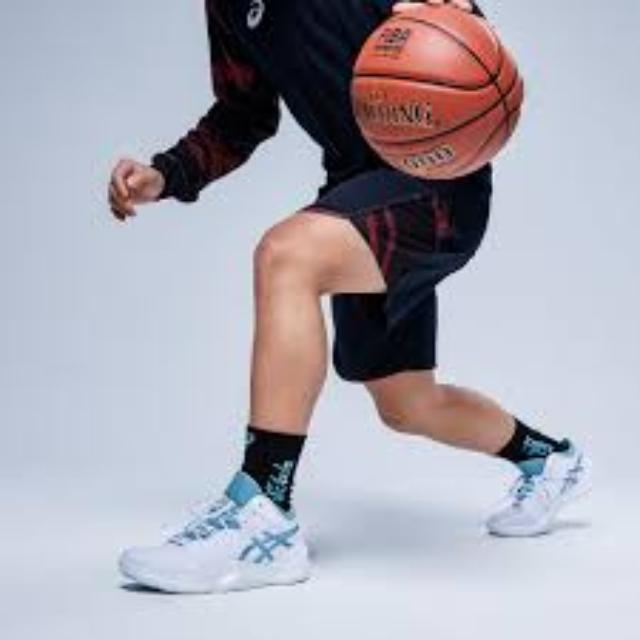basketball: (354, 10, 522, 176)
